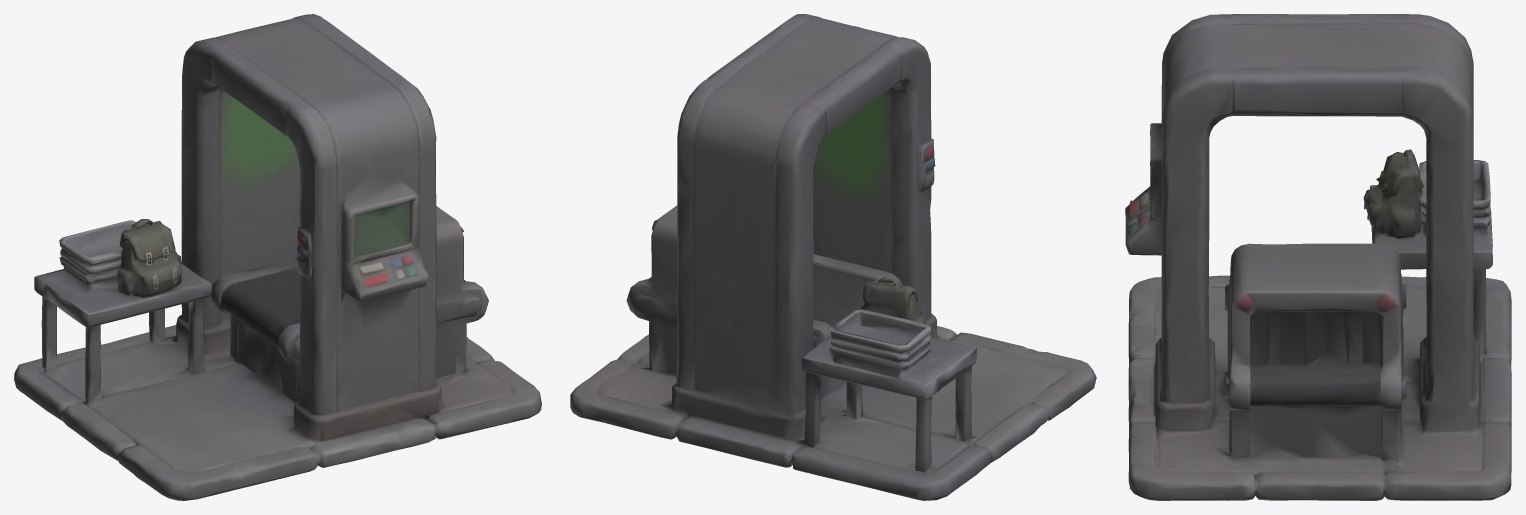
Rendered from airport_security_gate.glb.
3 renders of one model, left to right at view 1: azimuth 30°, elevation 25°; view 2: azimuth 150°, elevation 25°; view 3: azimuth 270°, elevation 25°, orthographic. The views are drawn at different scales.
Parts seen in each view (by area): view 1: tripo_node_9ce237de-6877-48b8-9a95-945d8d9d5462; view 2: tripo_node_9ce237de-6877-48b8-9a95-945d8d9d5462; view 3: tripo_node_9ce237de-6877-48b8-9a95-945d8d9d5462.
Part boxes in pixels (<box>): tripo_node_9ce237de-6877-48b8-9a95-945d8d9d5462: <box>14,14,541,500</box>; tripo_node_9ce237de-6877-48b8-9a95-945d8d9d5462: <box>570,14,1096,500</box>; tripo_node_9ce237de-6877-48b8-9a95-945d8d9d5462: <box>1125,14,1511,500</box>.
Size of the model in its own units: 1 by 0.8317 by 0.7848.
1 material, 1 textured.
